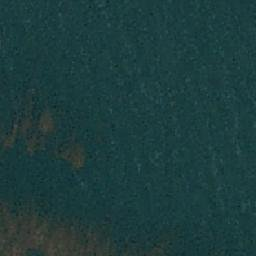debris: (1, 206, 56, 246), (22, 111, 54, 138), (59, 143, 86, 164), (71, 226, 92, 251), (2, 122, 21, 149), (57, 220, 71, 250), (21, 139, 45, 152)
